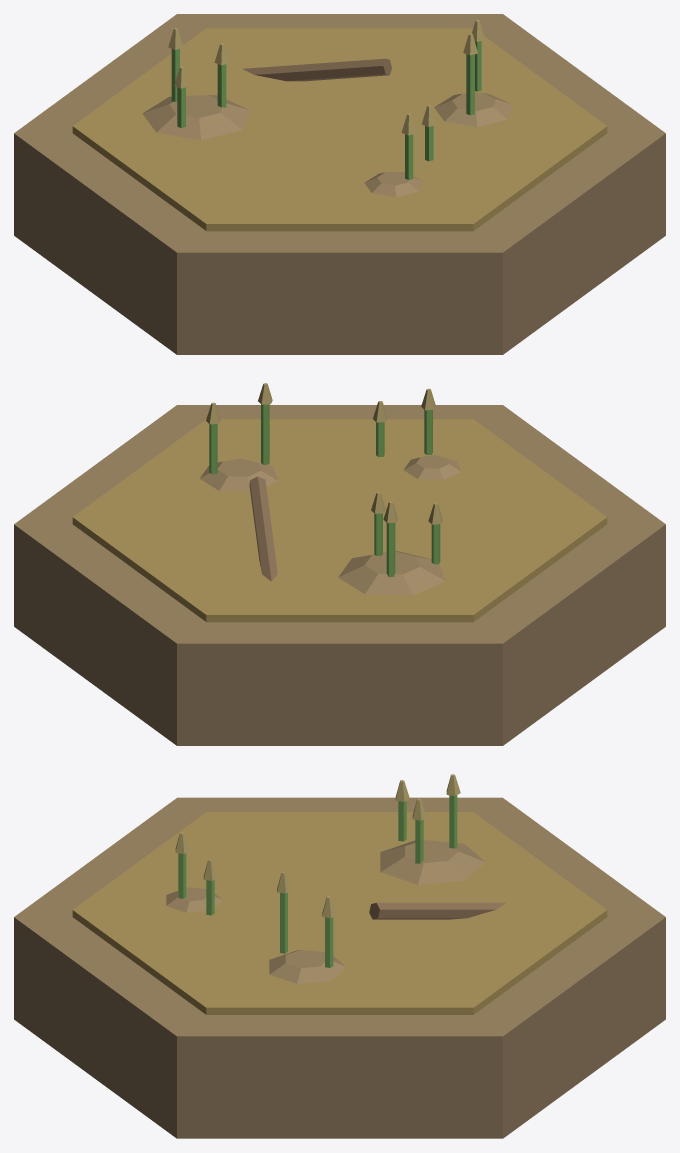
The model's file is swamp.glb.
The picture shows the model from 3 angles, top to bottom: view 1: azimuth 30°, elevation 25°; view 2: azimuth 150°, elevation 25°; view 3: azimuth 270°, elevation 25°; orthographic projection.
Visible parts, largest first — view 1: base, swamp_water, islet_1, deadwood, islet_2, islet_3, reed_4; view 2: base, swamp_water, islet_1, deadwood, islet_2, islet_3, reed_4, reed_0; view 3: base, swamp_water, islet_1, deadwood, islet_2, islet_3.
Boxes of the visible parts, <box> form: base: <box>14,14,665,354</box>; swamp_water: <box>72,28,607,231</box>; islet_1: <box>142,95,249,140</box>; deadwood: <box>242,58,391,81</box>; islet_2: <box>434,93,512,126</box>; islet_3: <box>364,172,422,197</box>; reed_4: <box>466,54,474,115</box>; base: <box>14,405,665,745</box>; swamp_water: <box>72,419,607,622</box>; islet_1: <box>338,550,445,595</box>; deadwood: <box>249,476,277,581</box>; islet_2: <box>199,458,278,491</box>; islet_3: <box>403,455,461,479</box>; reed_4: <box>261,404,269,464</box>; reed_0: <box>386,523,395,577</box>; base: <box>14,797,665,1138</box>; swamp_water: <box>72,812,607,1014</box>; islet_1: <box>380,840,485,884</box>; deadwood: <box>369,902,505,919</box>; islet_2: <box>269,949,346,983</box>; islet_3: <box>166,887,222,912</box>.
Bounding box in the file's own units: 1 × 0.385 × 1.15.
